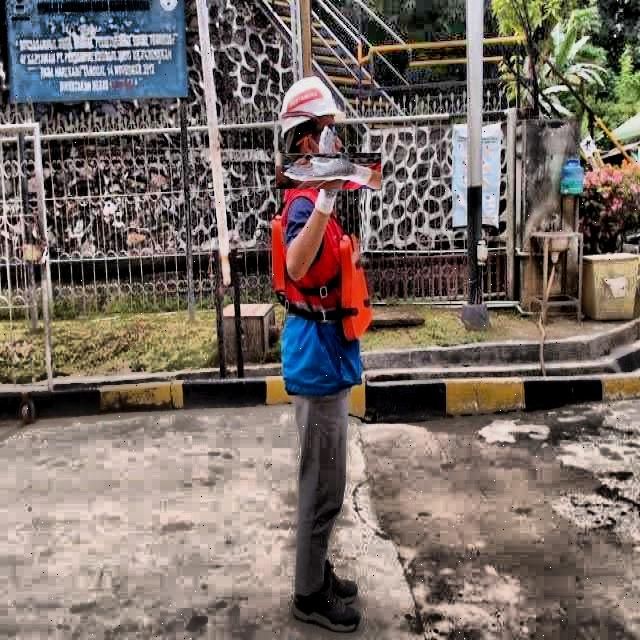gloved: (293, 135, 364, 206)
